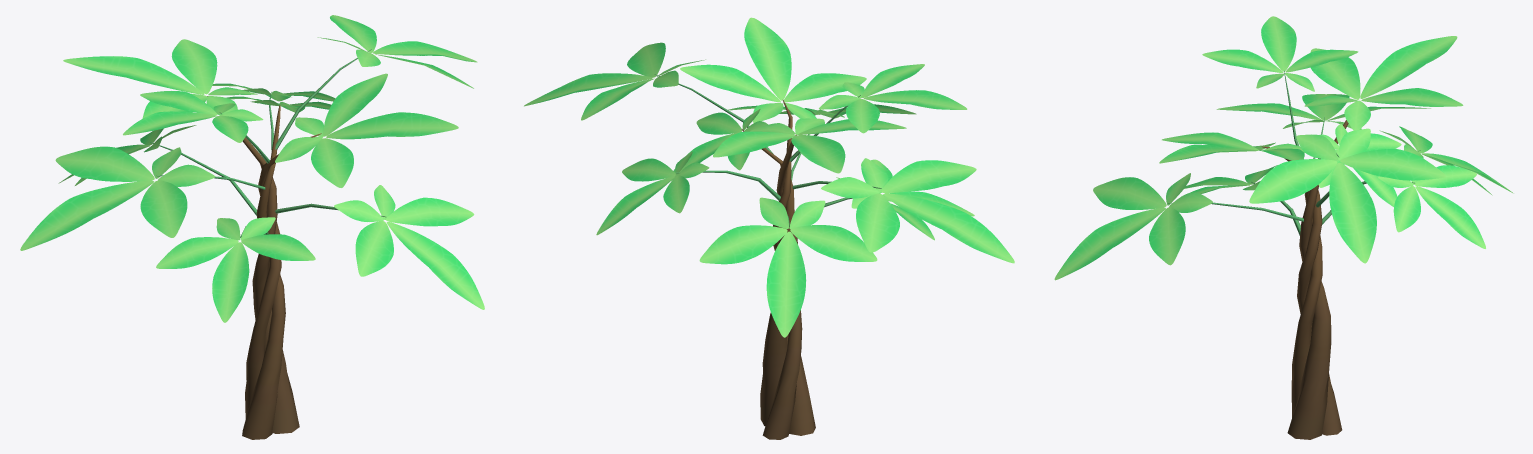
The model's file is MoneyTree2.fbx.
3 views of the same model, side by side, from view 1: azimuth 30°, elevation 25°; view 2: azimuth 150°, elevation 25°; view 3: azimuth 270°, elevation 25° (orthographic). The views are drawn at different scales.
Parts seen in each view (by area): view 1: Circle.004; view 2: Circle.004; view 3: Circle.004.
Part boxes in pixels (x1,y1,x2,y2): Circle.004: [20, 15, 484, 439]; Circle.004: [524, 17, 1014, 439]; Circle.004: [1054, 16, 1513, 439].
Bounding box in the file's own units: 367 × 253 × 315.
